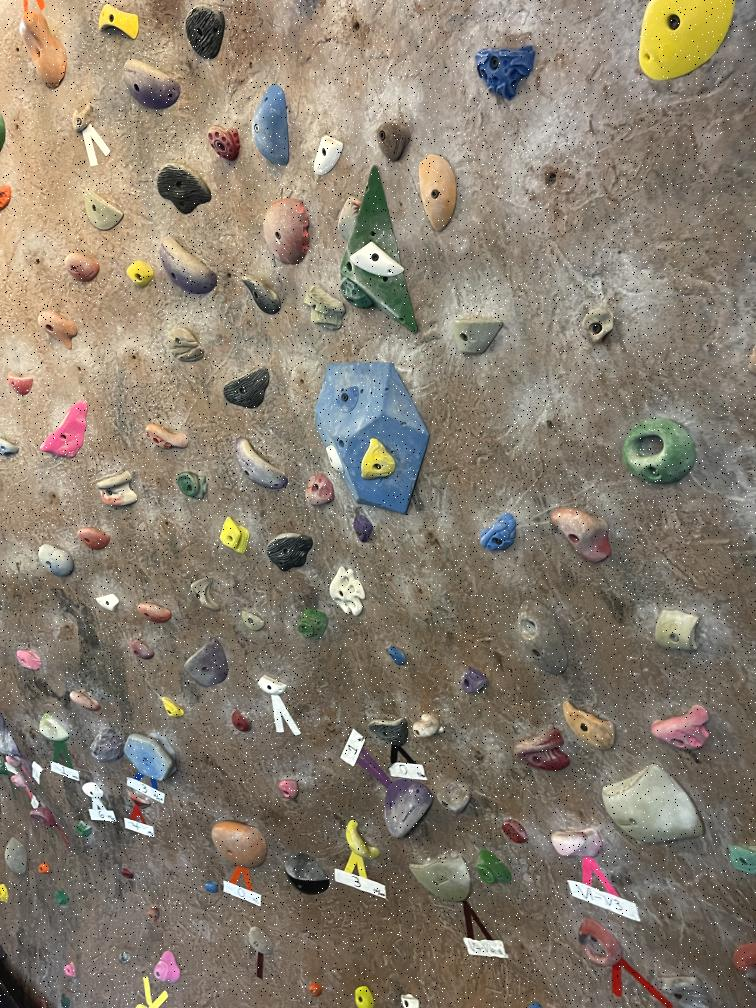Crimp: (408, 150, 468, 244), (465, 40, 540, 110), (402, 855, 474, 910), (463, 506, 525, 568), (562, 694, 620, 754), (81, 179, 132, 239), (299, 280, 349, 336), (348, 239, 411, 281), (302, 132, 352, 179), (435, 777, 474, 819), (336, 275, 376, 315), (246, 916, 280, 961), (188, 574, 224, 615), (61, 101, 101, 133), (248, 673, 292, 697), (384, 643, 415, 674), (331, 386, 363, 416), (6, 372, 41, 399), (126, 637, 160, 664), (322, 442, 346, 477), (238, 607, 270, 633), (93, 592, 123, 618)
Edges: (598, 765, 723, 850)
Foothold: (577, 300, 627, 353), (280, 849, 332, 898), (271, 768, 314, 810), (454, 660, 492, 707), (474, 848, 513, 893), (150, 948, 187, 991), (494, 811, 532, 847), (348, 511, 375, 542), (230, 711, 256, 733), (400, 987, 425, 1008), (354, 985, 373, 1008), (57, 988, 77, 1008), (144, 904, 164, 923), (73, 820, 92, 840), (54, 887, 70, 907), (113, 950, 134, 965), (61, 962, 79, 979), (201, 881, 221, 896), (117, 867, 137, 881), (308, 981, 324, 998), (35, 861, 53, 876)
Jug: (633, 0, 756, 86), (16, 9, 74, 95), (543, 500, 614, 563), (256, 196, 315, 270), (153, 234, 221, 296), (646, 700, 720, 756), (204, 814, 274, 873), (506, 724, 568, 785), (36, 397, 96, 458), (122, 725, 181, 787), (378, 774, 433, 840), (228, 432, 290, 490), (121, 56, 182, 108), (153, 162, 213, 213), (178, 5, 230, 62), (217, 360, 273, 410), (180, 637, 229, 691), (238, 265, 283, 316), (340, 813, 382, 867), (548, 825, 604, 865), (32, 535, 76, 585), (160, 326, 209, 370), (258, 531, 312, 568), (137, 419, 191, 456), (359, 434, 397, 485), (374, 118, 411, 168), (35, 308, 80, 348), (35, 712, 73, 751), (299, 472, 335, 513), (364, 715, 407, 748), (204, 126, 242, 163), (65, 684, 105, 718), (122, 256, 158, 292), (28, 801, 61, 840), (71, 524, 117, 551), (156, 691, 189, 721), (411, 712, 442, 743), (16, 643, 46, 674), (135, 599, 173, 623), (9, 772, 29, 794), (3, 755, 26, 772)
Pinch: (246, 76, 298, 173), (646, 600, 705, 656), (327, 565, 378, 623), (450, 312, 504, 360), (87, 3, 148, 45), (91, 466, 142, 511), (57, 254, 102, 288), (219, 514, 251, 556), (175, 469, 210, 503), (296, 609, 328, 643)
Pocket: (512, 593, 576, 684), (620, 419, 700, 486), (574, 916, 628, 970)
Sloper: (84, 722, 124, 769), (3, 833, 29, 881)
